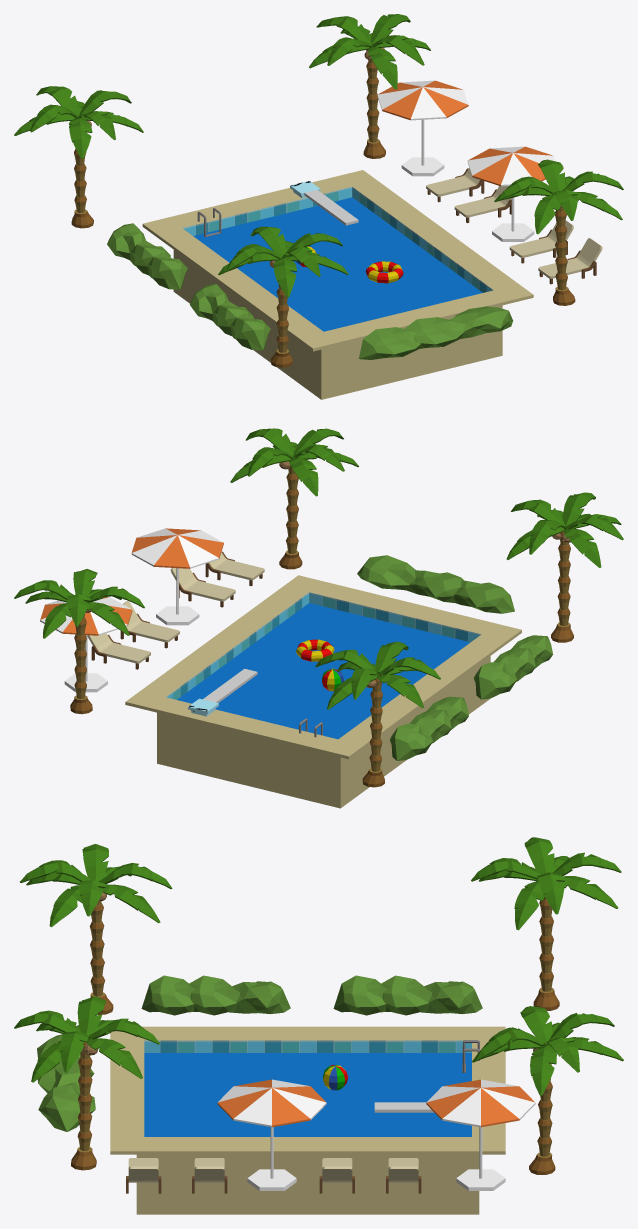
The model's file is D1_POOL.fbx.
3 views of the same model, one above another, from view 1: azimuth 30°, elevation 25°; view 2: azimuth 150°, elevation 25°; view 3: azimuth 270°, elevation 25° (orthographic). The views are drawn at different scales.
Parts seen in each view (by area): view 1: D1_POOL; view 2: D1_POOL; view 3: D1_POOL.
Part boxes in pixels (x1,y1,x2,y2): D1_POOL: [14, 14, 623, 399]; D1_POOL: [14, 428, 623, 808]; D1_POOL: [14, 837, 623, 1214].
Bounding box in the file's own units: 2236 × 984 × 2476.
19 materials, 2 textured.
